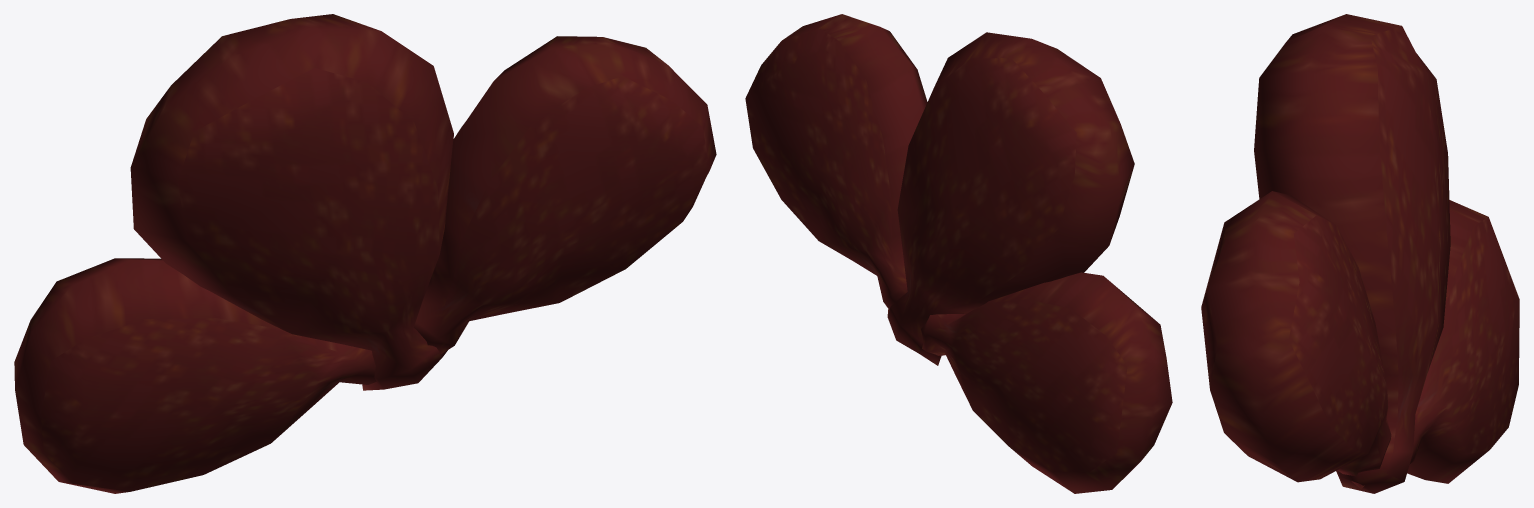
File: CookedCactusFig.fbx
3 views of the same model, side by side, from view 1: azimuth 30°, elevation 25°; view 2: azimuth 150°, elevation 25°; view 3: azimuth 270°, elevation 25° (orthographic). The views are drawn at different scales.
Parts seen in each view (by area): view 1: PearCactus (5), PearCactus (7), PearCactus (6); view 2: PearCactus (5), PearCactus (6), PearCactus (7); view 3: PearCactus (5), PearCactus (7), PearCactus (6).
Part boxes in pixels (left/top/right/bottom): PearCactus (5): left=130, top=14, right=453, bottom=390; PearCactus (7): left=414, top=36, right=716, bottom=353; PearCactus (6): left=14, top=258, right=376, bottom=493; PearCactus (5): left=887, top=32, right=1134, bottom=365; PearCactus (6): left=921, top=272, right=1172, bottom=493; PearCactus (7): left=745, top=14, right=927, bottom=309; PearCactus (5): left=1254, top=14, right=1450, bottom=493; PearCactus (7): left=1201, top=191, right=1391, bottom=488; PearCactus (6): left=1407, top=200, right=1519, bottom=483.
Bounding box in the file's own units: 0.8362 × 0.6492 × 0.3746.
1 material, 1 textured.
